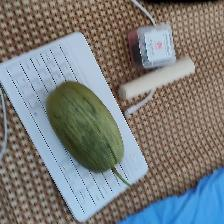gua: (44, 81, 125, 180)
